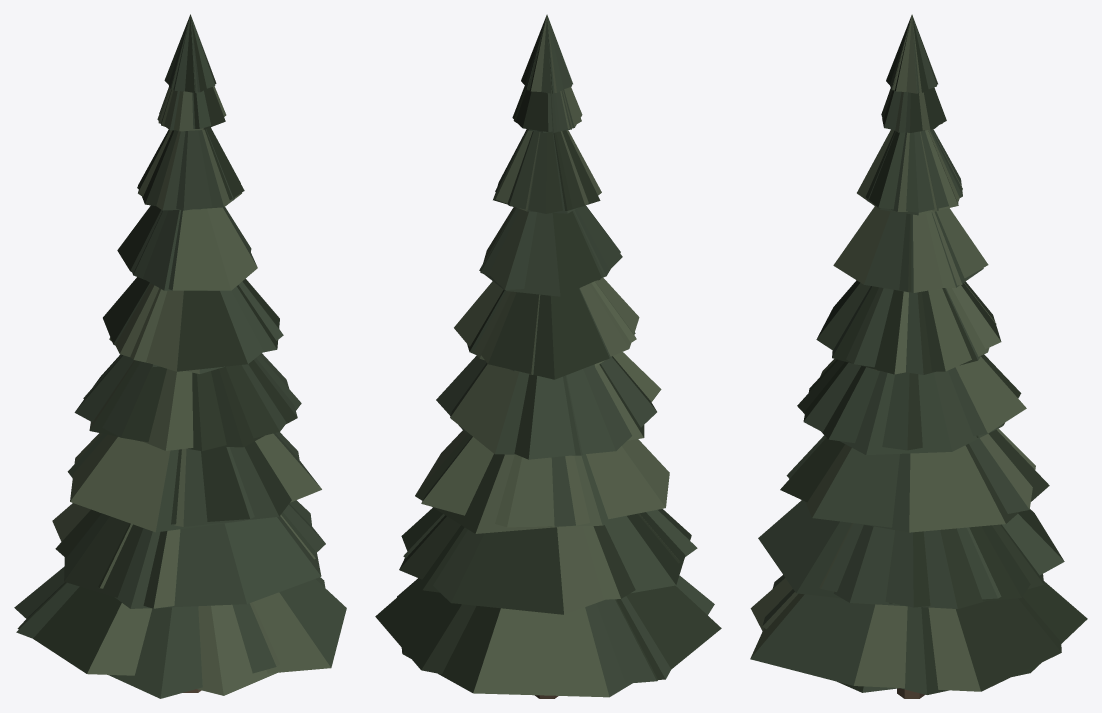
The model's file is fir-bigcone-douglas.glb.
The picture shows the model from 3 angles, left to right: view 1: azimuth 30°, elevation 25°; view 2: azimuth 150°, elevation 25°; view 3: azimuth 270°, elevation 25°; orthographic projection.
Visible parts, largest first — view 1: fir-bigcone-douglas_v1_LOD0, fir-bigcone-douglas_v0_LOD0, fir-bigcone-douglas_v2_LOD0; view 2: fir-bigcone-douglas_v1_LOD0, fir-bigcone-douglas_v0_LOD0, fir-bigcone-douglas_v2_LOD0; view 3: fir-bigcone-douglas_v1_LOD0, fir-bigcone-douglas_v2_LOD0, fir-bigcone-douglas_v0_LOD0.
Boxes of the visible parts, x1,y1,x2,y2 form: fir-bigcone-douglas_v1_LOD0: (17,14,346,675); fir-bigcone-douglas_v0_LOD0: (16,14,321,695); fir-bigcone-douglas_v2_LOD0: (14,17,325,698); fir-bigcone-douglas_v1_LOD0: (375,14,721,683); fir-bigcone-douglas_v0_LOD0: (399,15,691,698); fir-bigcone-douglas_v2_LOD0: (397,15,714,697); fir-bigcone-douglas_v1_LOD0: (750,14,1064,691); fir-bigcone-douglas_v2_LOD0: (762,15,1087,694); fir-bigcone-douglas_v0_LOD0: (750,15,1030,698).
Size of what is drawn, in the model's own units: 8.84 by 19.8 by 8.92.
